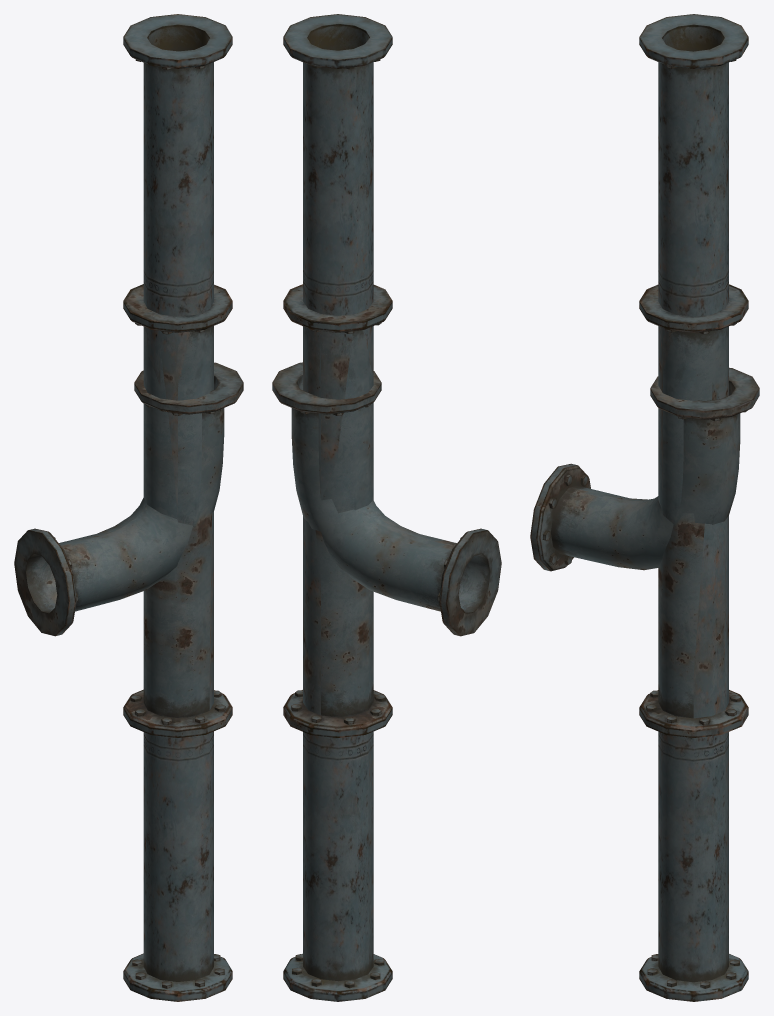
Rendered from pipe_fit.gltf.
3 renders of one model, left to right at view 1: azimuth 30°, elevation 25°; view 2: azimuth 150°, elevation 25°; view 3: azimuth 330°, elevation 25°, orthographic.
Parts seen in each view (by area): view 1: PipeLong, PipeShort, PipeElbow; view 2: PipeLong, PipeElbow, PipeShort; view 3: PipeLong, PipeShort, PipeElbow.
Part boxes in pixels (<box>): PipeLong: <box>123,14,232,1001</box>; PipeShort: <box>123,284,232,737</box>; PipeElbow: <box>14,362,243,636</box>; PipeLong: <box>283,14,392,1001</box>; PipeElbow: <box>272,362,501,636</box>; PipeShort: <box>283,284,392,737</box>; PipeLong: <box>639,14,748,1001</box>; PipeShort: <box>639,284,748,737</box>; PipeElbow: <box>530,367,759,571</box>.
Bounding box in the file's own units: 0.4241 × 1.95 × 0.2063.
Materials: 1 (1 with a texture image).
